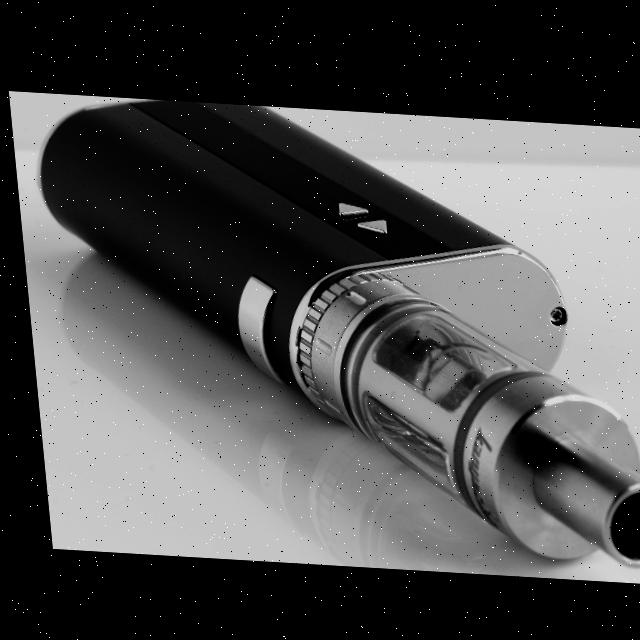vape: (25, 92, 640, 564)
